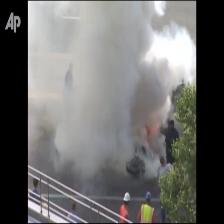smoke: (76, 7, 161, 160)
